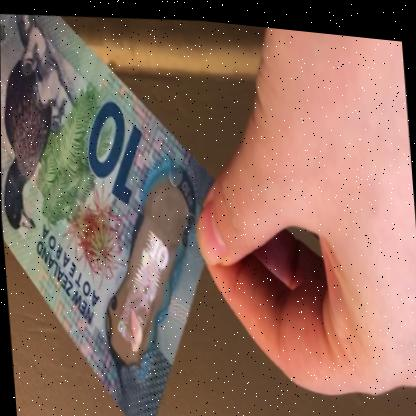10F: (108, 215, 180, 358)
